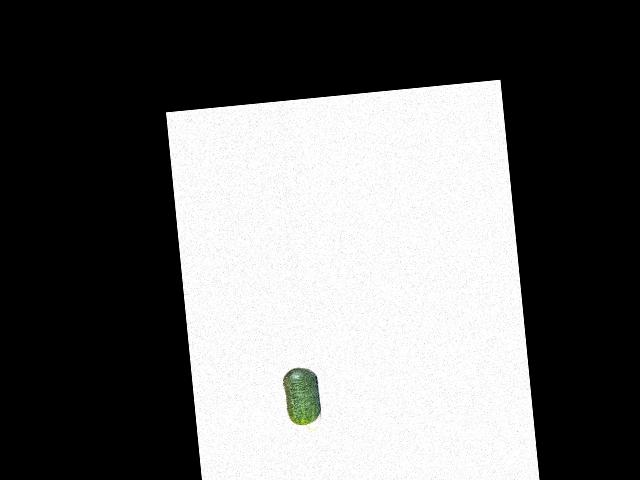cucumber: (281, 366, 323, 433)
